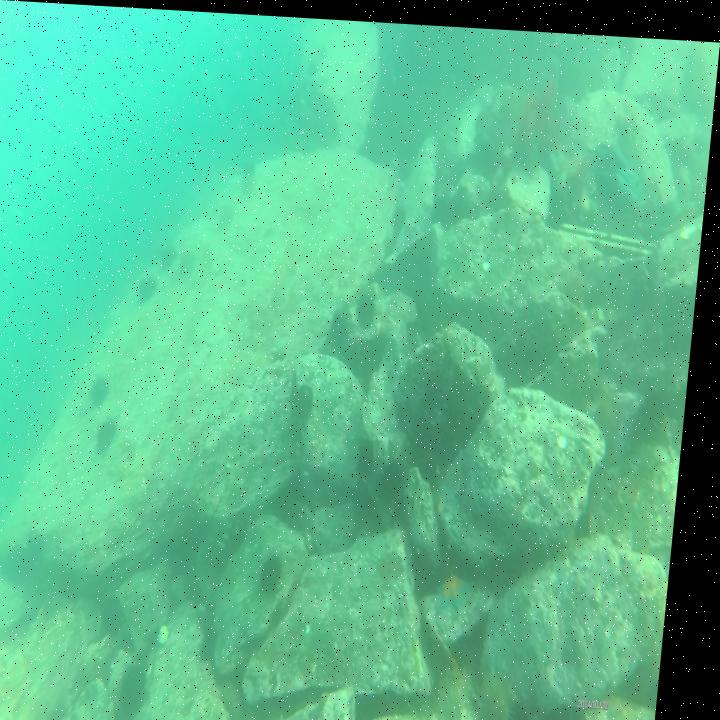echinus: (448, 652, 490, 720), (127, 657, 166, 718), (485, 671, 533, 720), (387, 444, 417, 504), (270, 540, 298, 596), (230, 671, 260, 720), (331, 303, 360, 349), (359, 283, 385, 326), (299, 378, 323, 422), (102, 416, 126, 459), (181, 242, 202, 282), (141, 270, 164, 304), (96, 374, 119, 408), (164, 237, 184, 273), (222, 194, 242, 227), (394, 196, 412, 231), (242, 153, 261, 183)
starfish: (447, 567, 480, 611)
